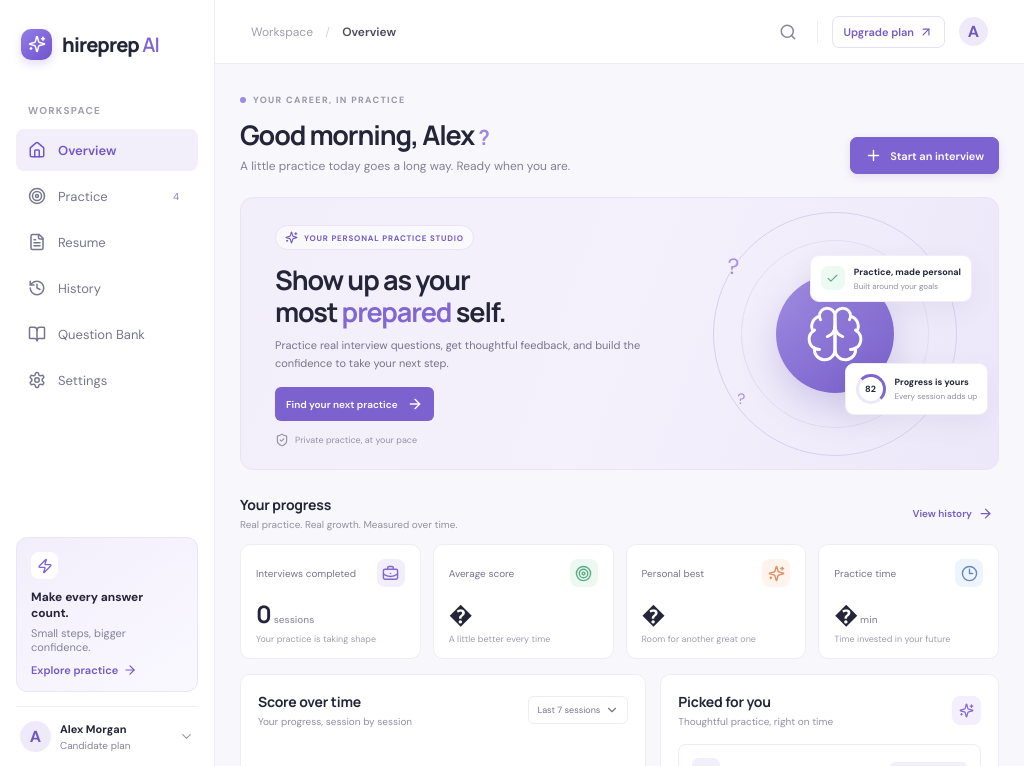
AI request behavior in the application UI › does not generate questions while opening Practice or navigating between pages
The image size is (1024, 766).
Later steps or results of the test are not shown.
Click the button "Practice 4": (107, 196) [16,175,198,217]
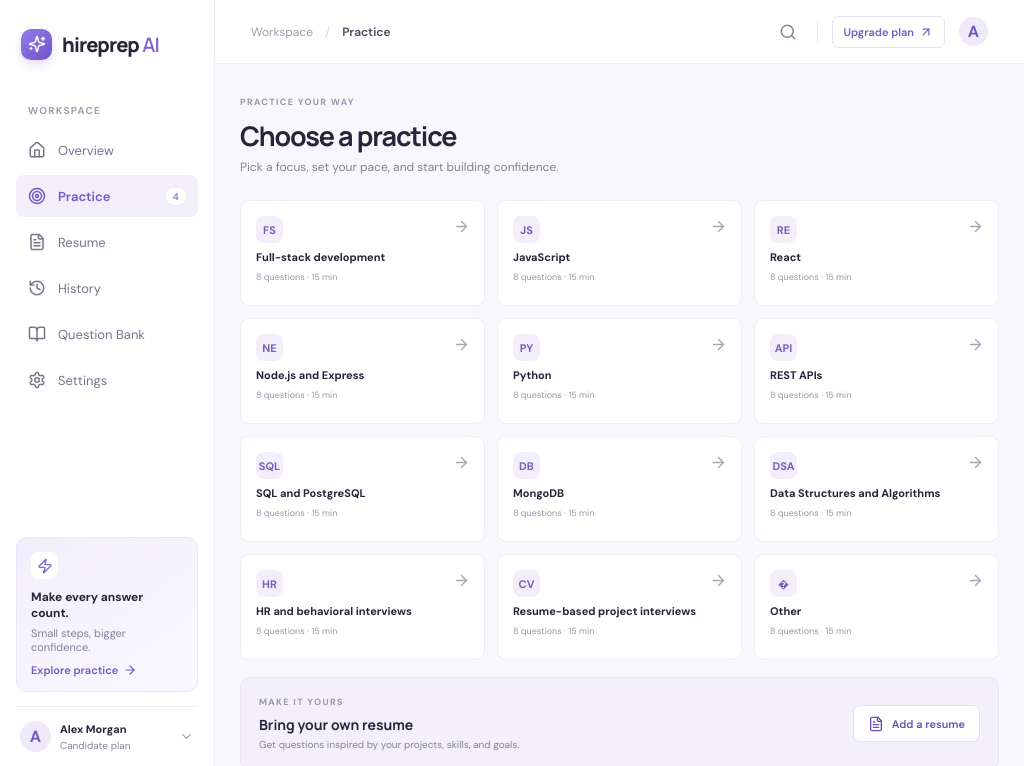
Check: the text "Choose a practice" is shown, box [240,117,456,154]
